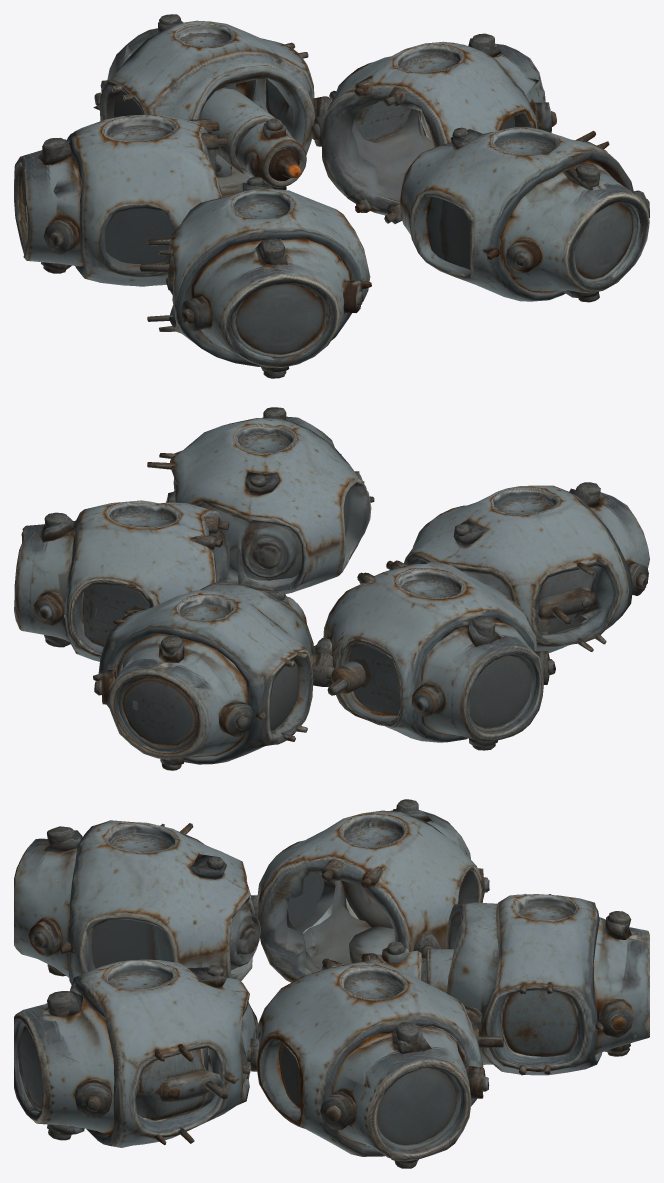
The model's file is debris-generated-01.glb.
3 views of the same model, one above another, from view 1: azimuth 30°, elevation 25°; view 2: azimuth 150°, elevation 25°; view 3: azimuth 270°, elevation 25° (orthographic). The views are drawn at different scales.
Bounding box in the file's own units: 1 × 0.2723 × 1.
Materials: 1 (1 with a texture image).
